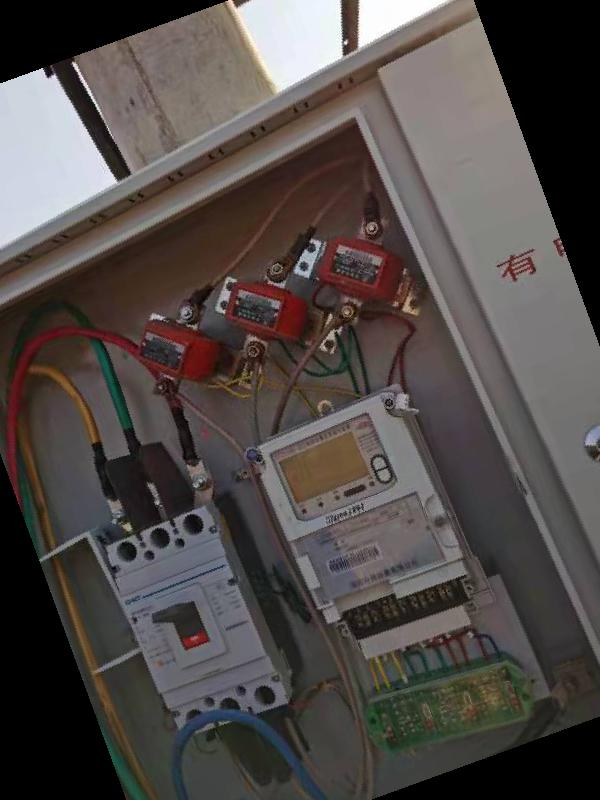digital: (254, 396, 465, 611)
